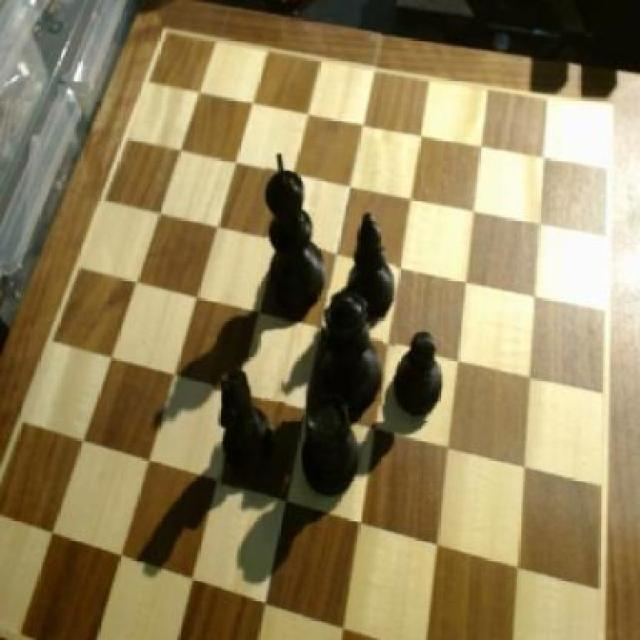bishop: (348, 204, 398, 318)
black-bishop: (266, 154, 326, 312)
black-king: (214, 355, 288, 490)
black-knight: (394, 332, 448, 422)
black-pawn: (315, 286, 384, 409)
black-queen: (302, 392, 362, 506)
